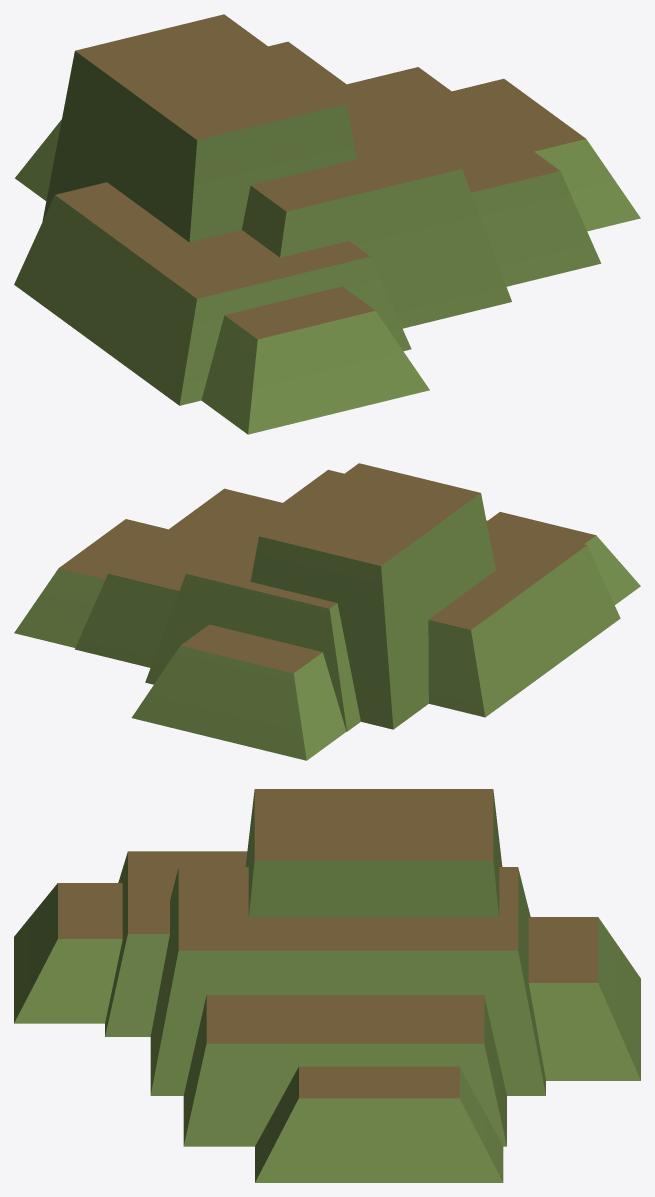
File: SM_Env_Rock_Brown_02.gltf
3 views of the same model, one above another, from view 1: azimuth 30°, elevation 25°; view 2: azimuth 150°, elevation 25°; view 3: azimuth 270°, elevation 25° (orthographic). The views are drawn at different scales.
Visible parts, largest first — view 1: SM_Env_Rock_Brown_02; view 2: SM_Env_Rock_Brown_02; view 3: SM_Env_Rock_Brown_02.
Part boxes in pixels (bbox=[...]): SM_Env_Rock_Brown_02: bbox=[14, 14, 640, 434]; SM_Env_Rock_Brown_02: bbox=[14, 463, 640, 760]; SM_Env_Rock_Brown_02: bbox=[14, 789, 640, 1182].
Bounding box in the file's own units: 3.37 × 1.12 × 3.48.
1 material, 1 textured.
